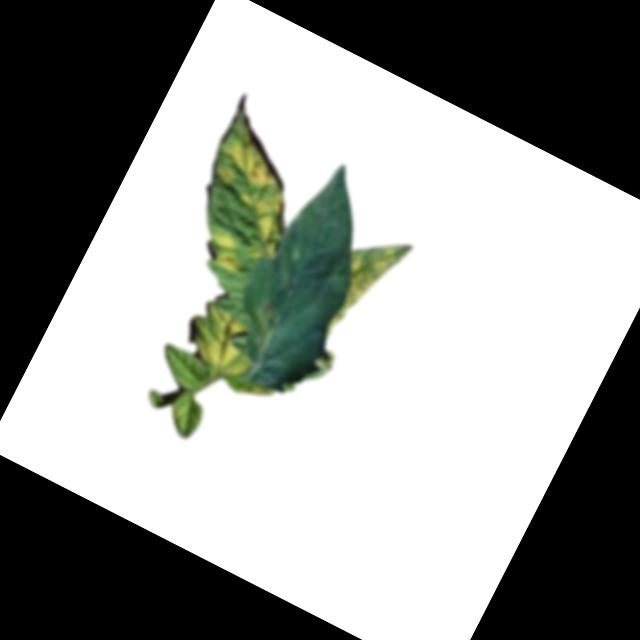Leaf_Mold: (186, 118, 321, 259), (323, 223, 416, 333), (179, 300, 265, 381), (238, 294, 291, 358), (199, 224, 251, 277)
